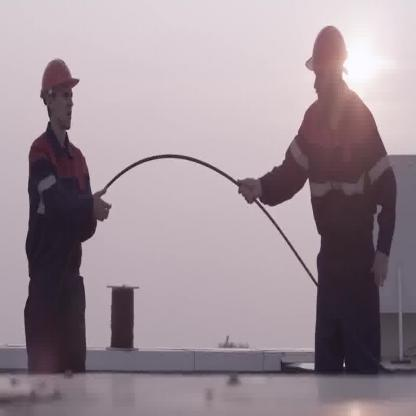helmet: (306, 23, 348, 72), (38, 57, 80, 97)
vest: (258, 79, 398, 377), (24, 122, 97, 373)
